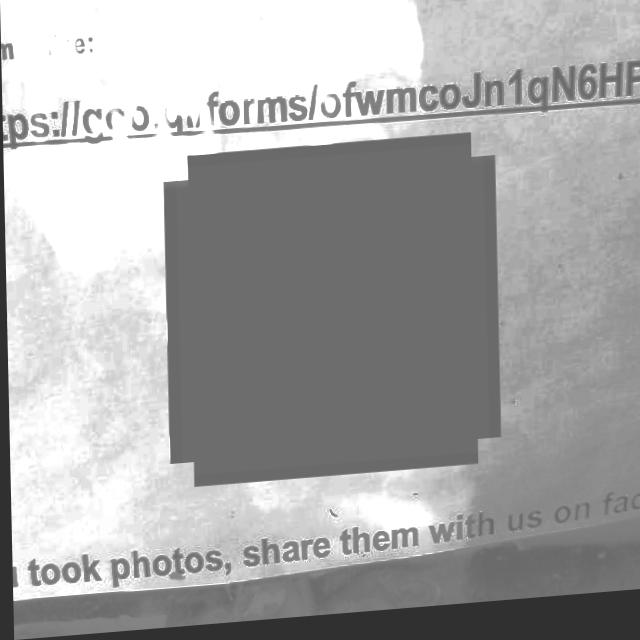qr_code: (175, 151, 488, 479)
